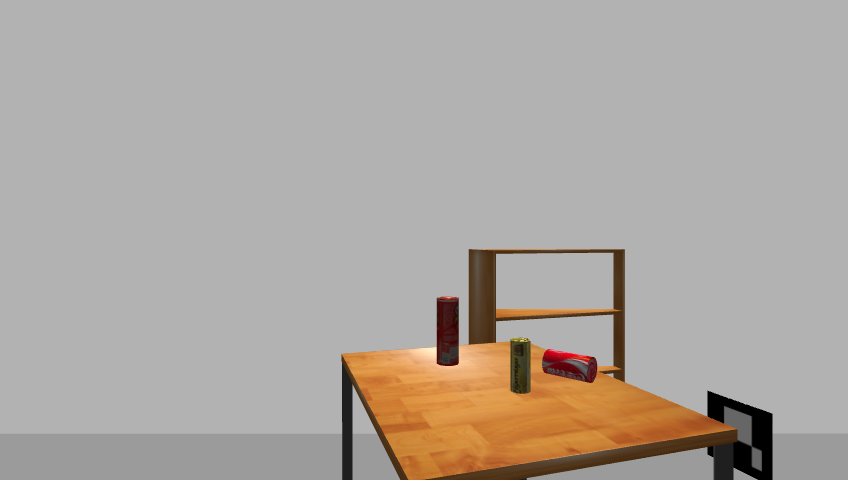aruco marker: (701, 390, 779, 479)
biscuits pack: (508, 337, 533, 395)
bookshelf: (463, 245, 632, 401)
coke can: (540, 349, 600, 385)
dinner table: (333, 344, 748, 479)
pringles can: (434, 295, 461, 367)
